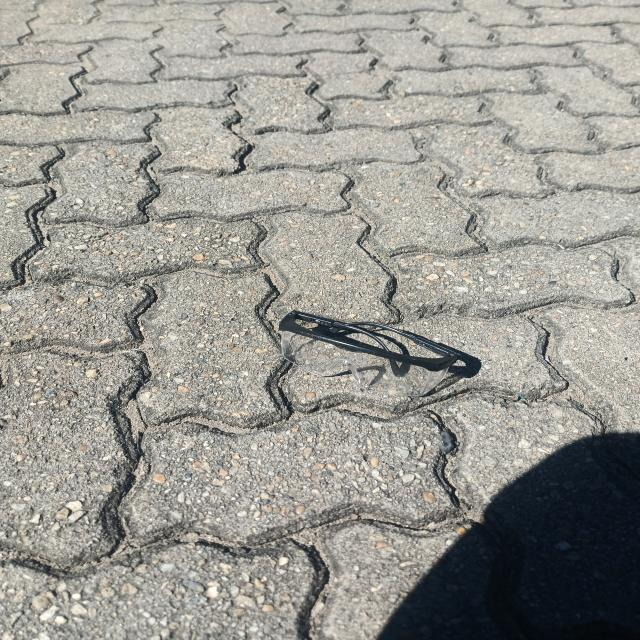oculos-epi: (279, 311, 458, 396)
